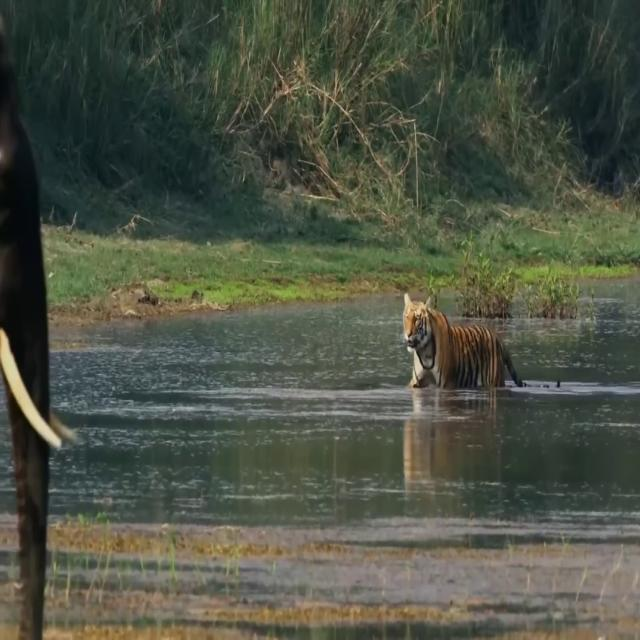tiger: (403, 292, 562, 394)
